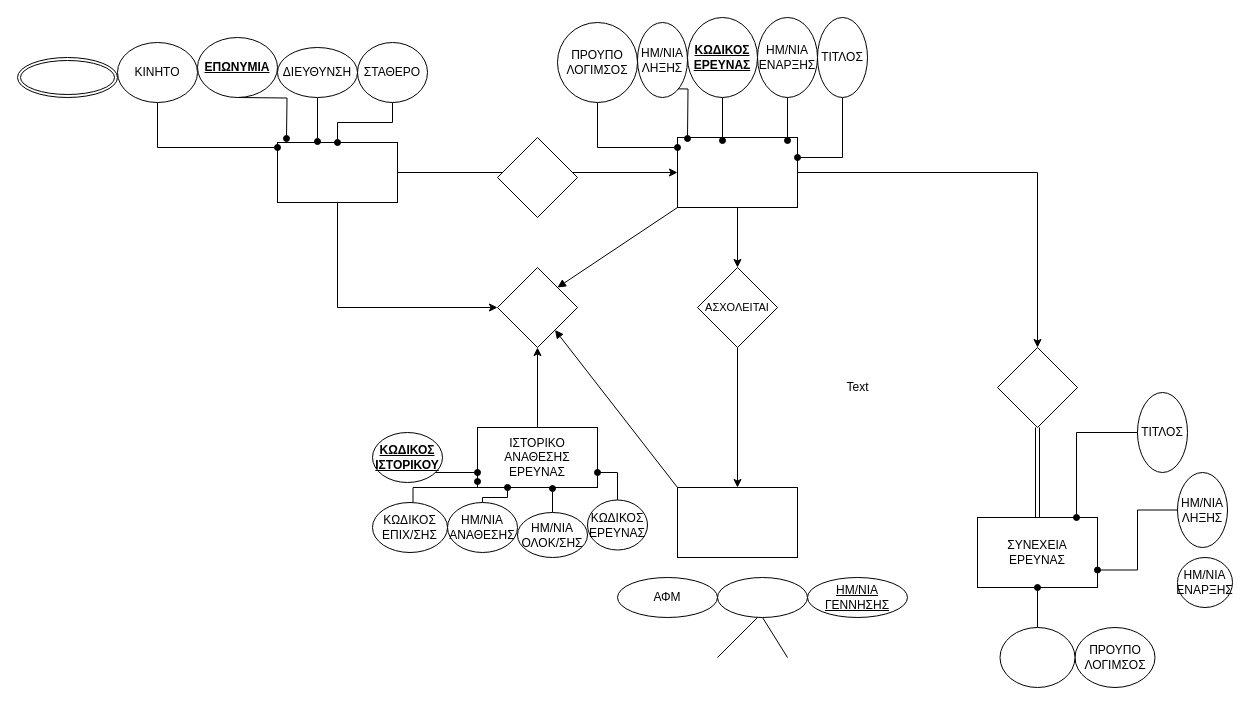
Some shapes in this 1251 by 705 pixel diagram are drawn without their labels. Here are the shapes that lost their labels. From the top down, the centre of each, then its label:
At [67,77]: "Attribute".
At [337,172]: "ΕΠΙΧΕΙΡΗΣΗ".
At [537,177]: "ΑΝΑΘΕΤΕΙ".
At [737,172]: "ΕΡΕΥΝΑ".
At [537,307]: "ΕΧΕΙ".
At [1037,387]: "ΑΠΟΤΕΛΕΊΤΑΙ".
At [737,522]: "ΕΡΓΑΖΟΜΕΝΟΣ".
At [762,597]: "ΟΝΟΜ/ΜΟ".
At [1037,657]: "ΚΩΔΙΚΟΣ ΣΥΣΧΕΤΙΣΗΣ".
